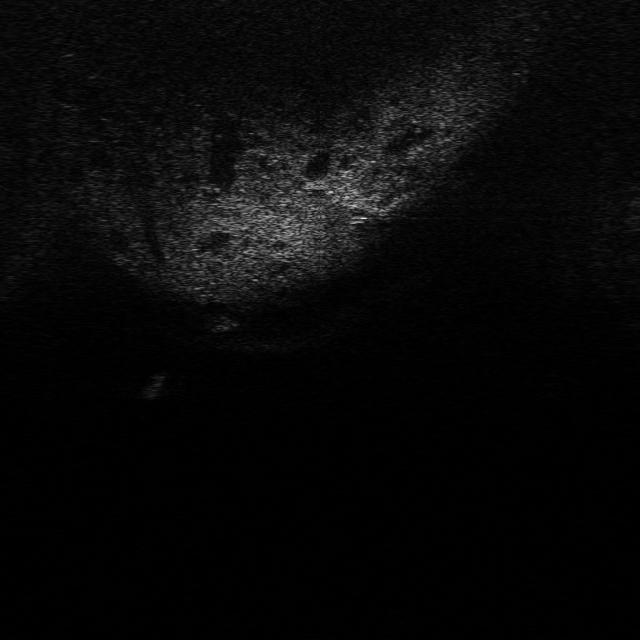cube: (197, 306, 241, 334)
cylinder: (137, 368, 169, 401)
